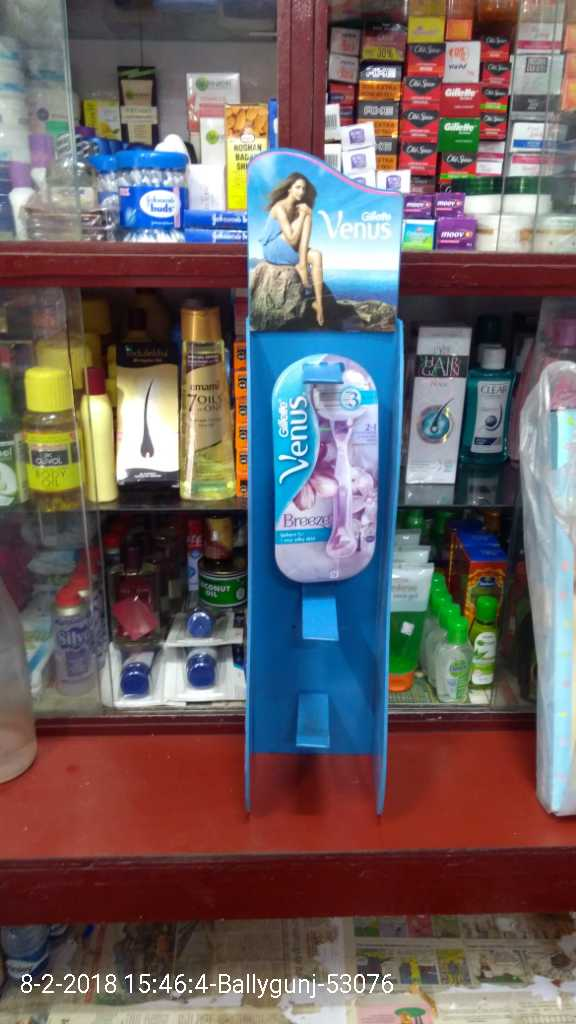venus: (274, 352, 373, 577)
